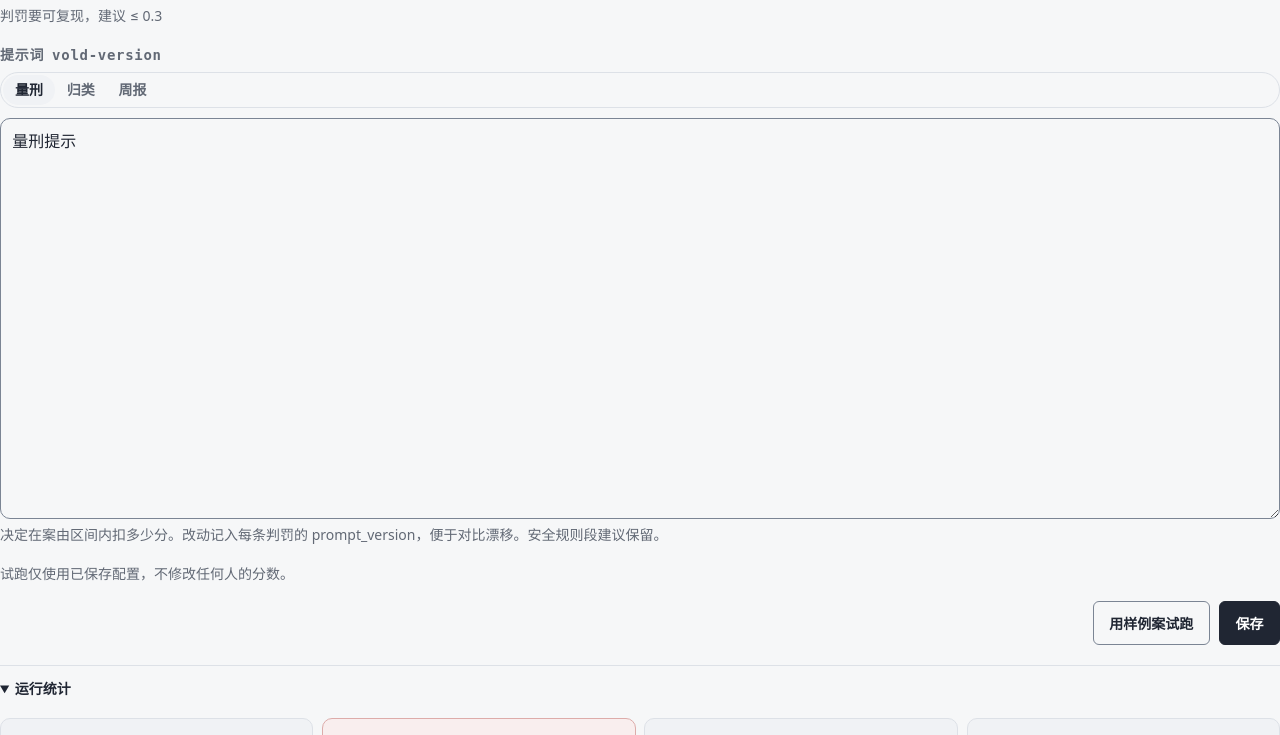
Scenario: administrator-managed AI credentials › keeps configured enablement when the effective service is disabled and ordinary save omits the key
(page scrolled)
Click the button "保存" at (1250, 623), box x1=1219 y1=601 x2=1279 y2=645
(page scrolled)
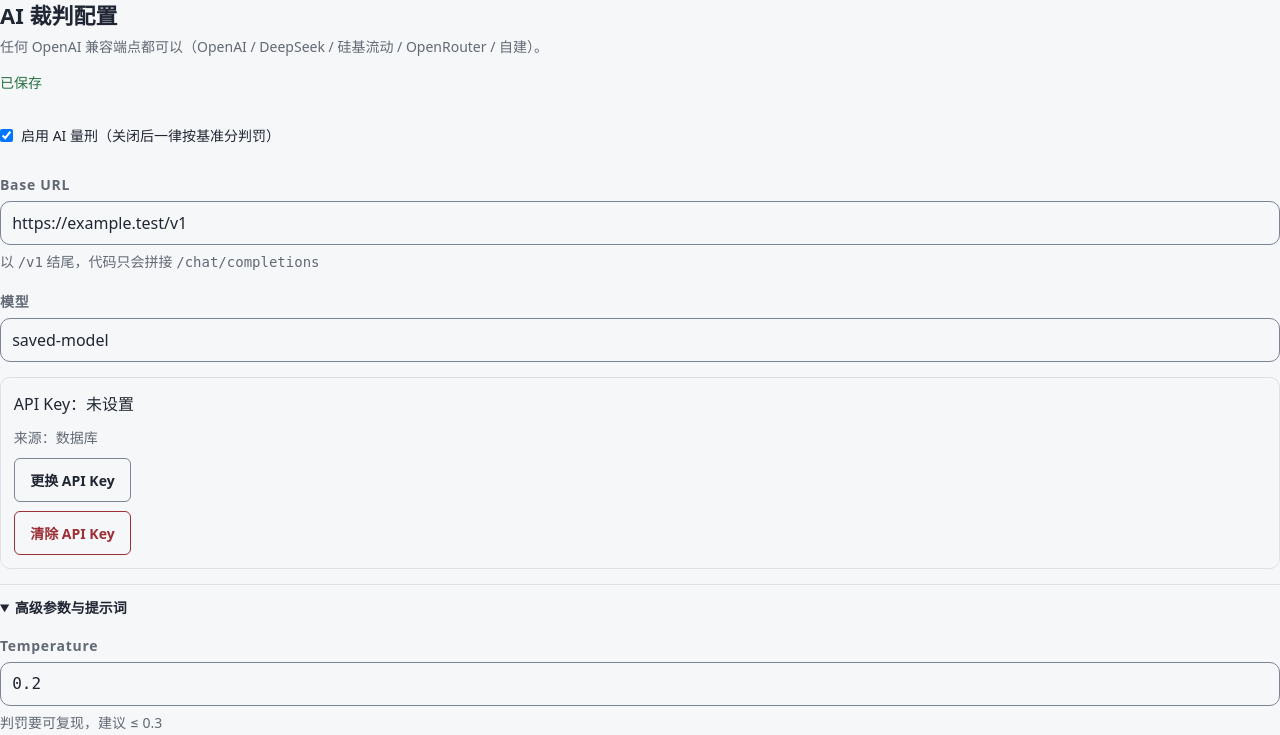
expect the text "已保存" is shown: met, box x1=0 y1=74 x2=42 y2=92
